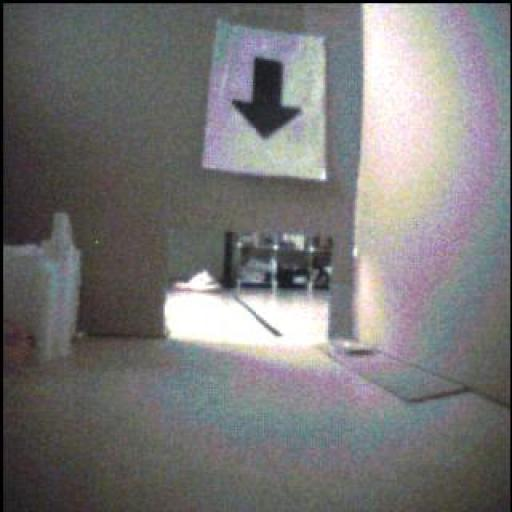arrow: (233, 59, 302, 139)
